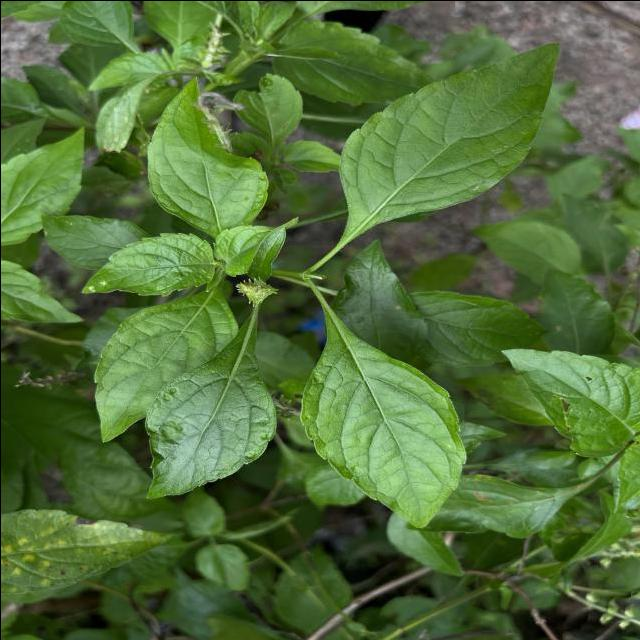Ocimum gratissimum: (334, 40, 564, 260), (296, 277, 467, 533), (140, 304, 278, 501), (88, 278, 236, 446), (143, 70, 272, 233), (498, 342, 640, 462), (78, 228, 215, 299)
